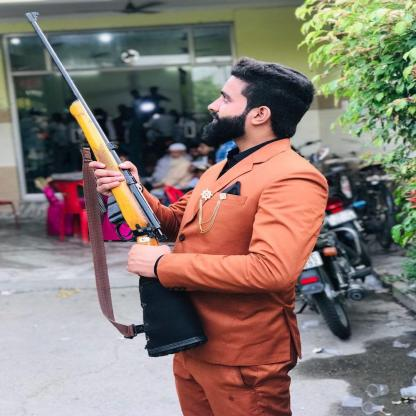rifle: (23, 10, 210, 358)
